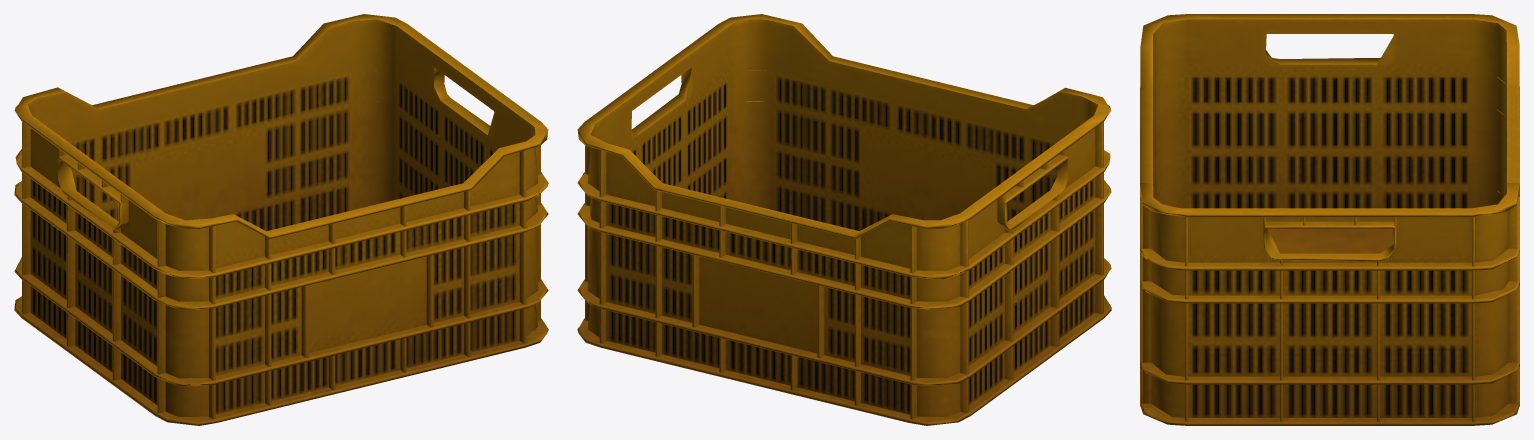
File: recycle_bin_lod1.glb
3 views of the same model, side by side, from view 1: azimuth 30°, elevation 25°; view 2: azimuth 150°, elevation 25°; view 3: azimuth 270°, elevation 25° (orthographic). The views are drawn at different scales.
Bounding box in the file's own units: 0.5055 × 0.2541 × 0.4055.
1 material, 1 textured.
